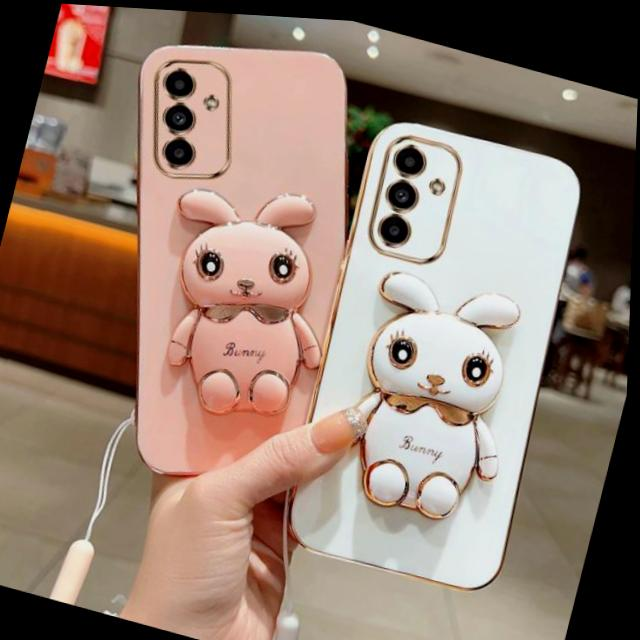Smartphone: (293, 107, 589, 592), (141, 46, 342, 476)
